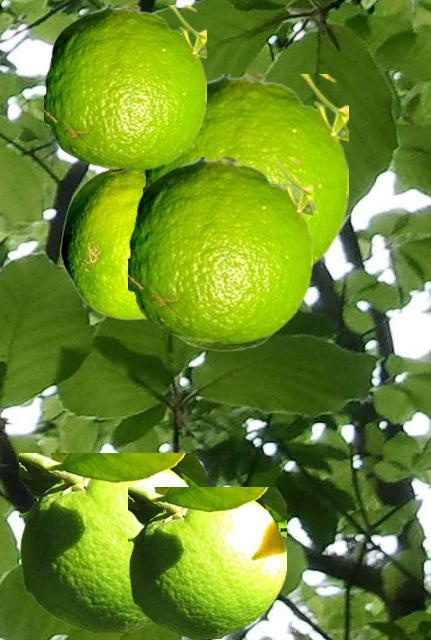dalandan: (143, 74, 347, 269), (128, 157, 311, 342), (19, 453, 206, 631), (44, 5, 205, 169), (128, 487, 285, 637), (177, 185, 316, 350), (60, 170, 145, 319)
